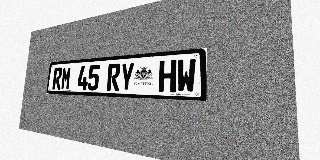4: (77, 65, 89, 90)
5: (87, 65, 100, 91)
H: (158, 60, 177, 92)
M: (61, 67, 72, 90)
R: (107, 63, 121, 91), (52, 67, 63, 90)
W: (176, 58, 196, 93)
Y: (119, 62, 135, 91)
